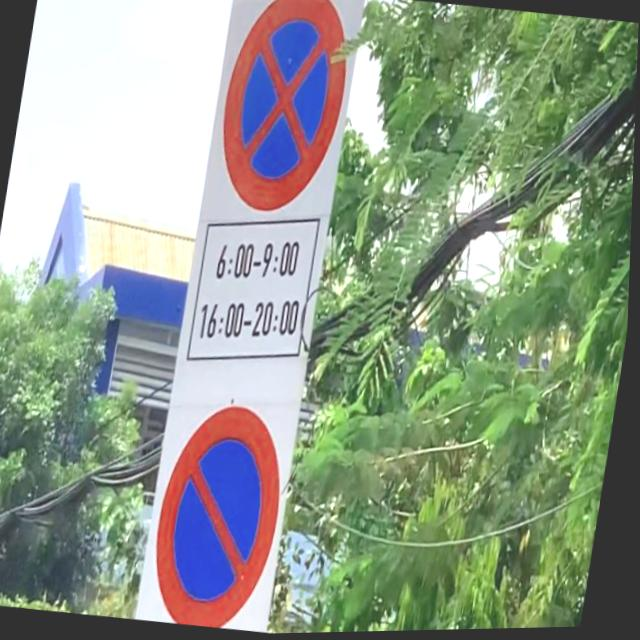Cam do xe: (146, 399, 300, 635)
Cam dung xe va do xe: (207, 0, 358, 223)
